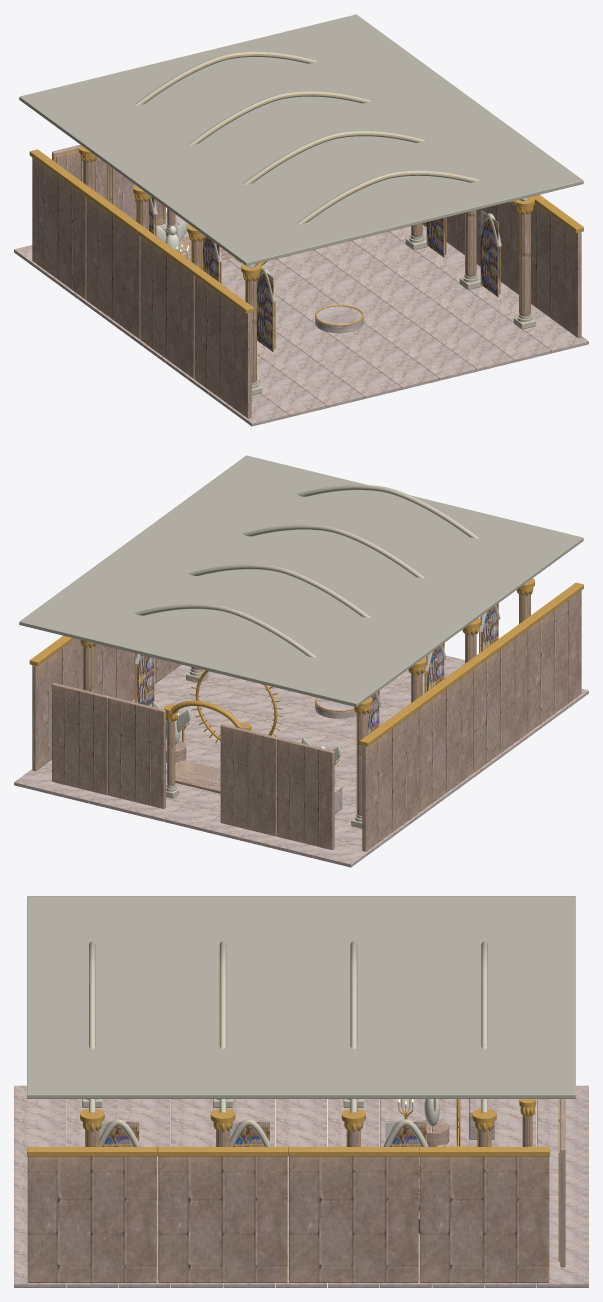
Rendered from room-4.glb.
The picture shows the model from 3 angles, top to bottom: view 1: azimuth 30°, elevation 25°; view 2: azimuth 150°, elevation 25°; view 3: azimuth 270°, elevation 25°; orthographic projection. The views are drawn at different scales.
Visible parts, largest first — view 1: Architecture Vaulted ceiling, Architecture Floor tile, Architecture Architectural stone, Architecture Antique gilt, Architecture Warm cut stone, Architecture Decorated glass, Architecture Decorative ceramic, Architecture Porcelain ivory; view 2: Architecture Vaulted ceiling, Architecture Architectural stone, Architecture Floor tile, Architecture Antique gilt, Architecture Warm cut stone, Architecture Decorated glass, Architecture Decorative ceramic; view 3: Architecture Vaulted ceiling, Architecture Architectural stone, Architecture Floor tile, Architecture Antique gilt, Architecture Warm cut stone, Architecture Decorated glass.
Part boxes in pixels (x1,y1,x2,y2): Architecture Vaulted ceiling: (19,14,583,265); Architecture Floor tile: (14,212,588,426); Architecture Architectural stone: (32,145,581,418); Architecture Antique gilt: (29,54,583,380); Architecture Warm cut stone: (135,51,535,395); Architecture Decorated glass: (136,197,498,351); Architecture Decorative ceramic: (157,226,363,333); Architecture Porcelain ivory: (154,221,188,258); Architecture Vaulted ceiling: (19,455,583,706); Architecture Architectural stone: (32,582,581,851); Architecture Floor tile: (14,655,588,867); Architecture Antique gilt: (29,578,583,814); Architecture Warm cut stone: (133,484,500,828); Architecture Decorated glass: (136,603,498,733); Architecture Decorative ceramic: (315,698,356,813); Architecture Vaulted ceiling: (27,896,575,1098); Architecture Architectural stone: (27,1099,565,1282); Architecture Floor tile: (14,1085,588,1287); Architecture Antique gilt: (27,943,559,1261); Architecture Warm cut stone: (82,941,487,1146); Architecture Decorated glass: (99,1121,426,1211).
Bounding box in the file's own units: 18.05 × 9.59 × 21.99.
9 materials, 4 textured.
